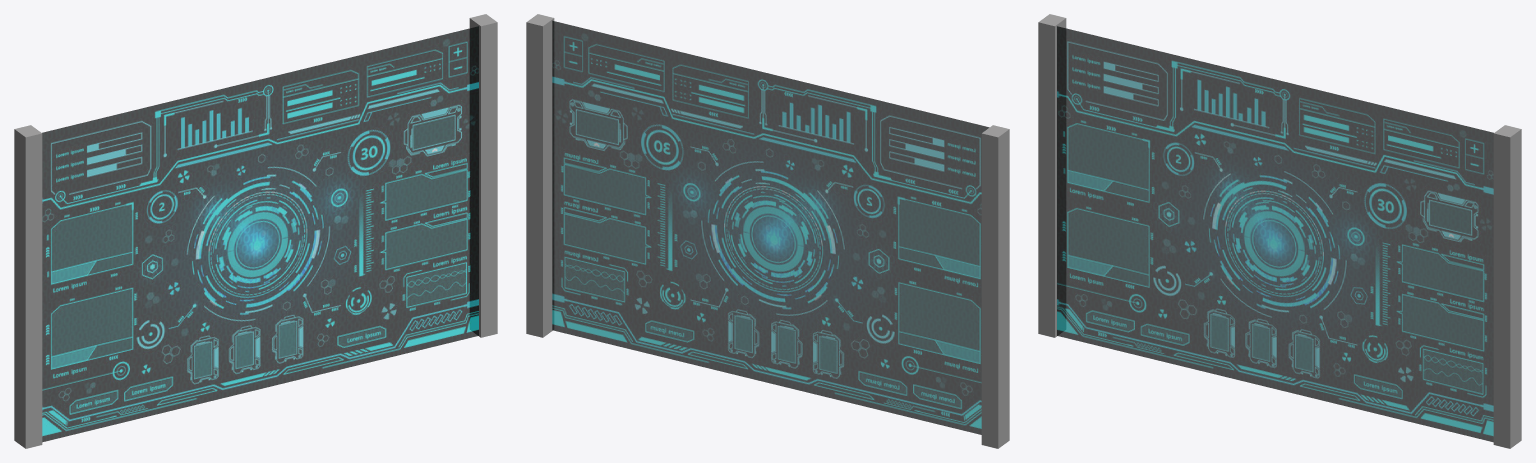
The picture shows the model from 3 angles, left to right: view 1: azimuth 30°, elevation 25°; view 2: azimuth 150°, elevation 25°; view 3: azimuth 330°, elevation 25°; orthographic projection.
Visible parts, largest first — view 1: mesh_id34, mesh_id43, mesh_id53; view 2: mesh_id34, mesh_id43, mesh_id53; view 3: mesh_id34, mesh_id53, mesh_id43.
Part boxes in pixels (bbox=[...]): mesh_id34: bbox=[42, 26, 478, 442]; mesh_id43: bbox=[14, 125, 42, 448]; mesh_id53: bbox=[469, 14, 497, 337]; mesh_id34: bbox=[552, 20, 989, 434]; mesh_id43: bbox=[981, 125, 1009, 448]; mesh_id53: bbox=[526, 14, 554, 337]; mesh_id34: bbox=[1057, 26, 1493, 442]; mesh_id53: bbox=[1493, 125, 1521, 448]; mesh_id43: bbox=[1038, 14, 1066, 337].
Bounding box in the file's own units: 0.7695 × 0.4857 × 0.0321.
2 materials, 2 textured.
